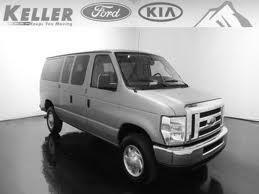car: (39, 50, 230, 181)
